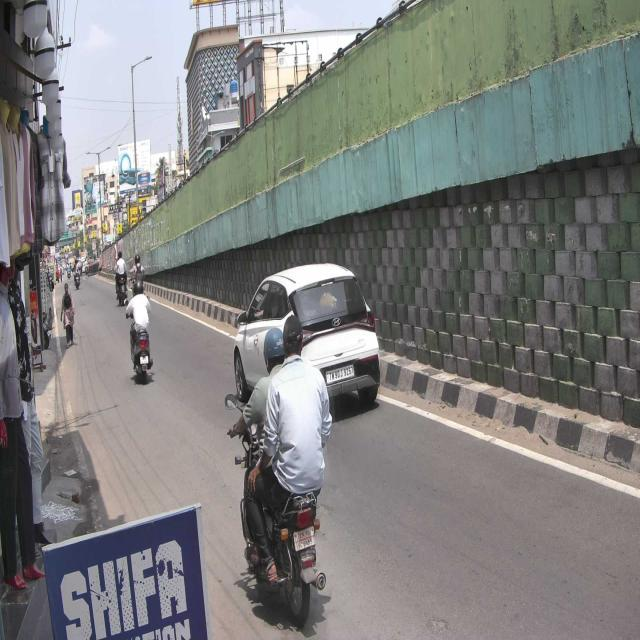double_rider: (227, 314, 331, 627)
